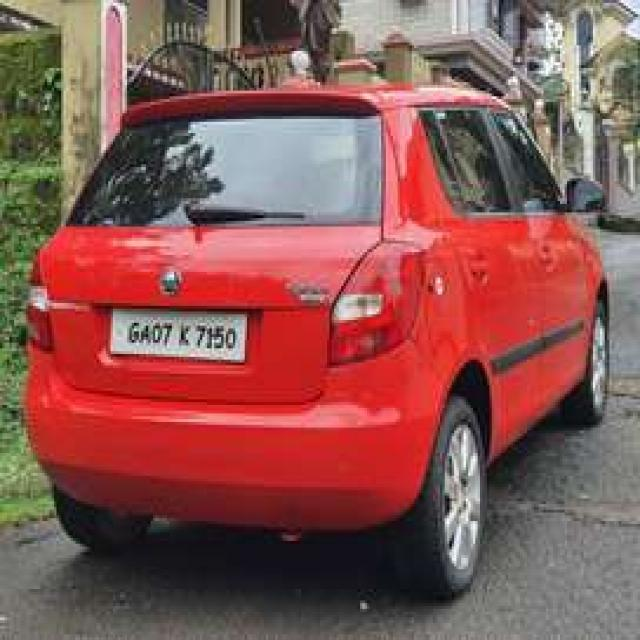license-plate: (106, 306, 242, 357)
